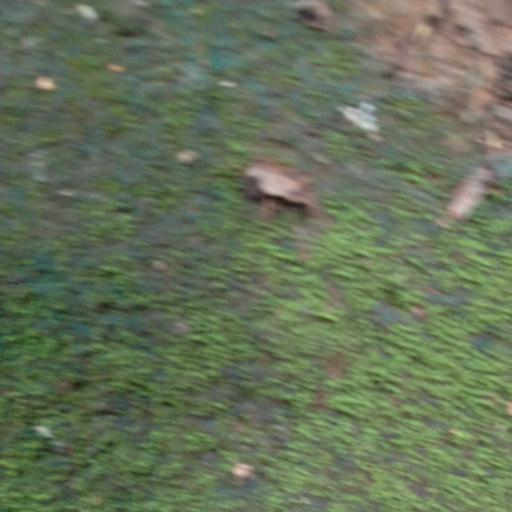algae: (4, 2, 512, 512)
